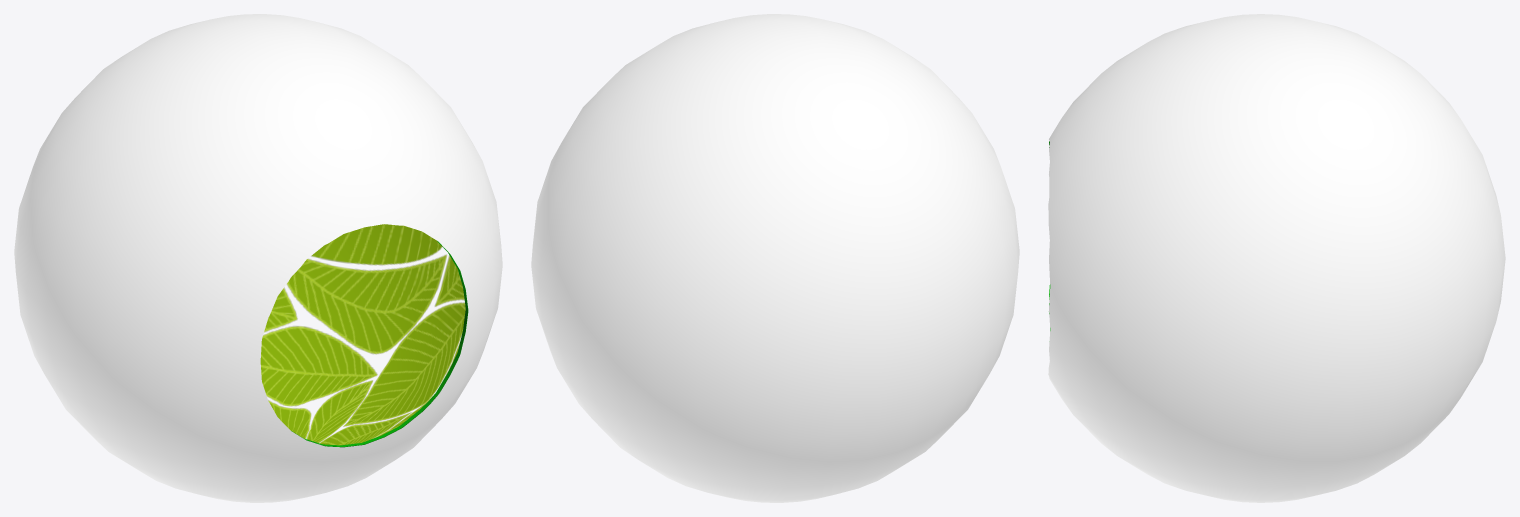
The model's file is transparent.glb.
3 views of the same model, side by side, from view 1: azimuth 30°, elevation 25°; view 2: azimuth 150°, elevation 25°; view 3: azimuth 270°, elevation 25° (orthographic).
Parts seen in each view (by area): view 1: occluder, photoSphere, rim; view 2: occluder; view 3: occluder.
Part boxes in pixels (x1,y1,x2,y2): occluder: [14, 14, 502, 502]; photoSphere: [260, 224, 465, 445]; rim: [291, 241, 468, 447]; occluder: [531, 14, 1019, 502]; occluder: [1048, 14, 1505, 502].
Bounding box in the file's own units: 1.02 × 1.02 × 0.9532.
Materials: 3 (1 with a texture image).
